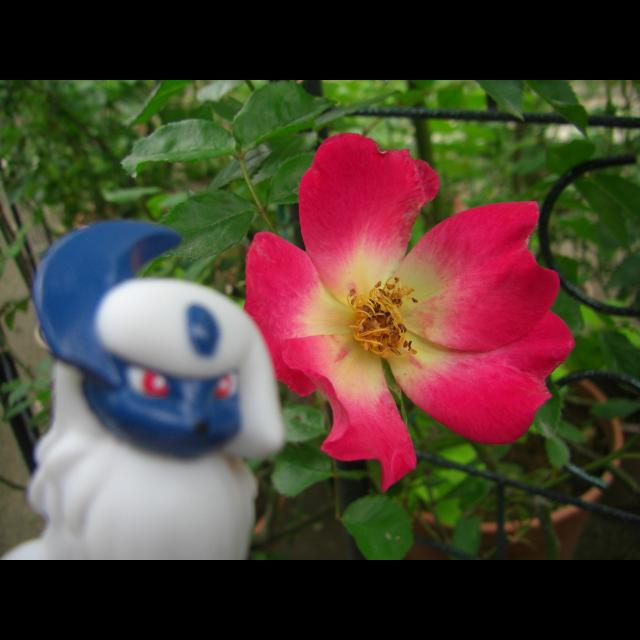Flower: (243, 139, 565, 481)
